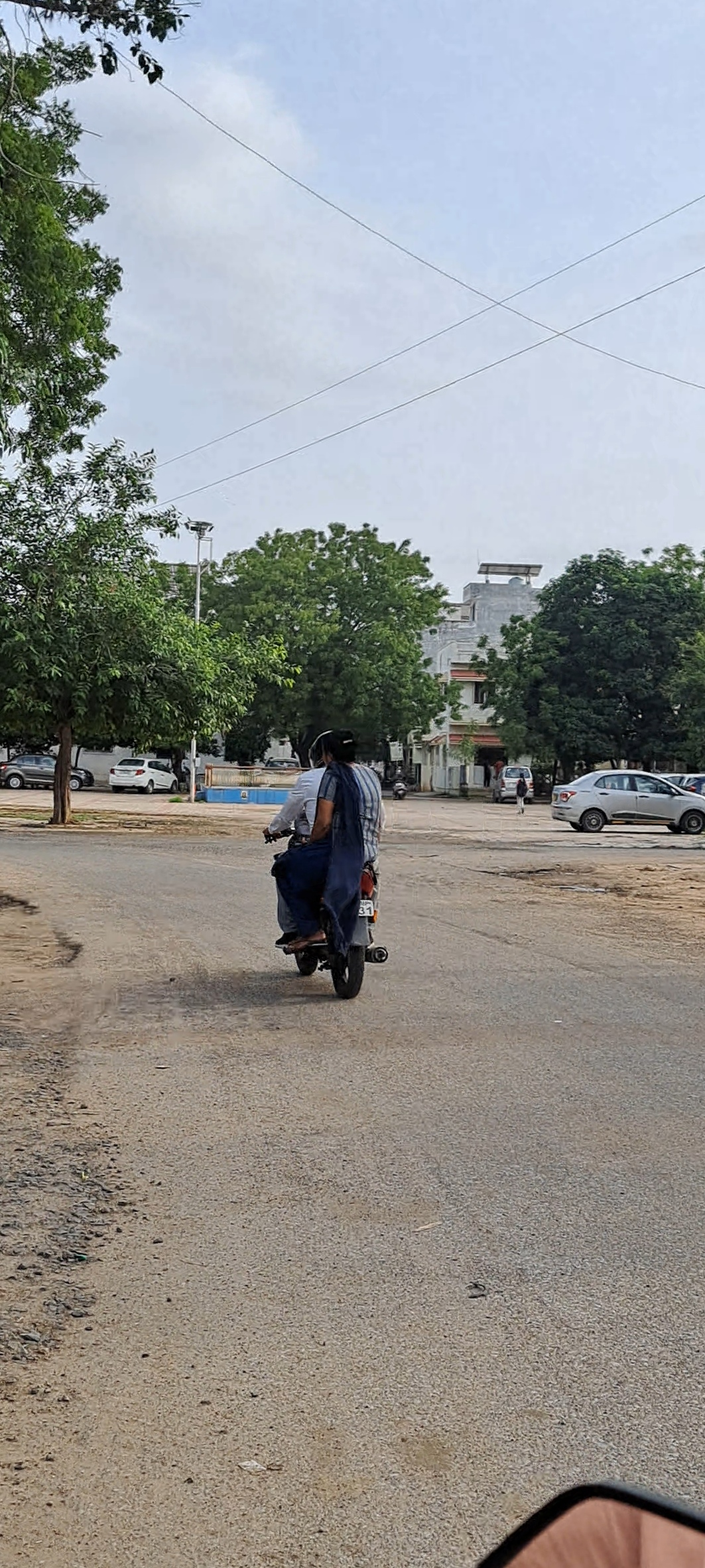BikeWithRider: (255, 724, 396, 1004)
Helmet: (308, 728, 331, 768)
NoHelmet: (324, 728, 358, 767)
